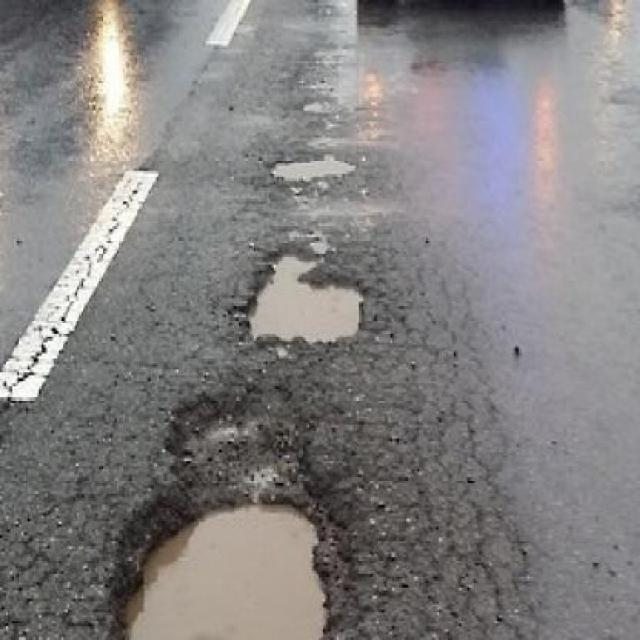pothole: (97, 383, 357, 637), (228, 244, 377, 348), (262, 146, 359, 188)
